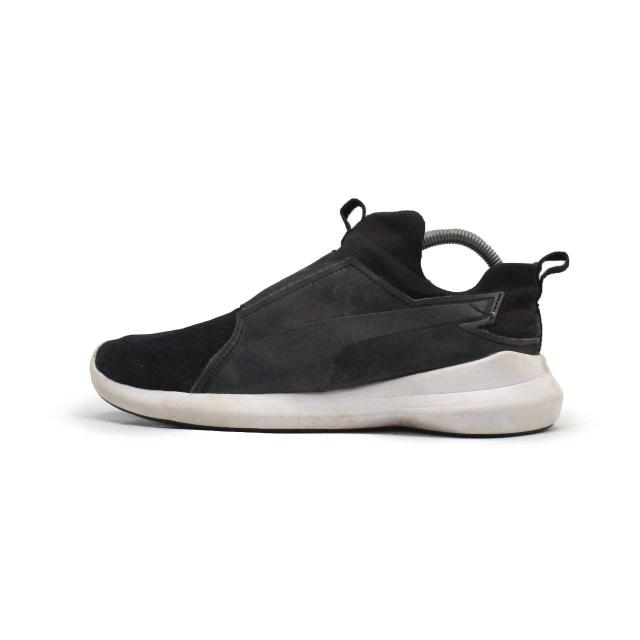heel: (471, 254, 571, 363)
midsole: (92, 349, 560, 433)
uppersole: (94, 200, 474, 391)
